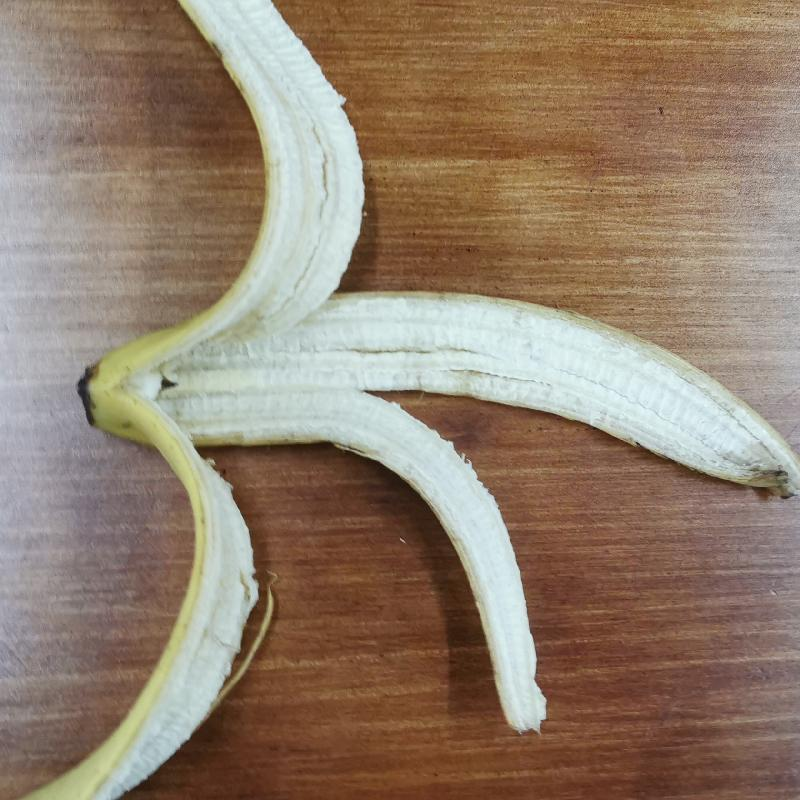bananas: (4, 0, 798, 799)
